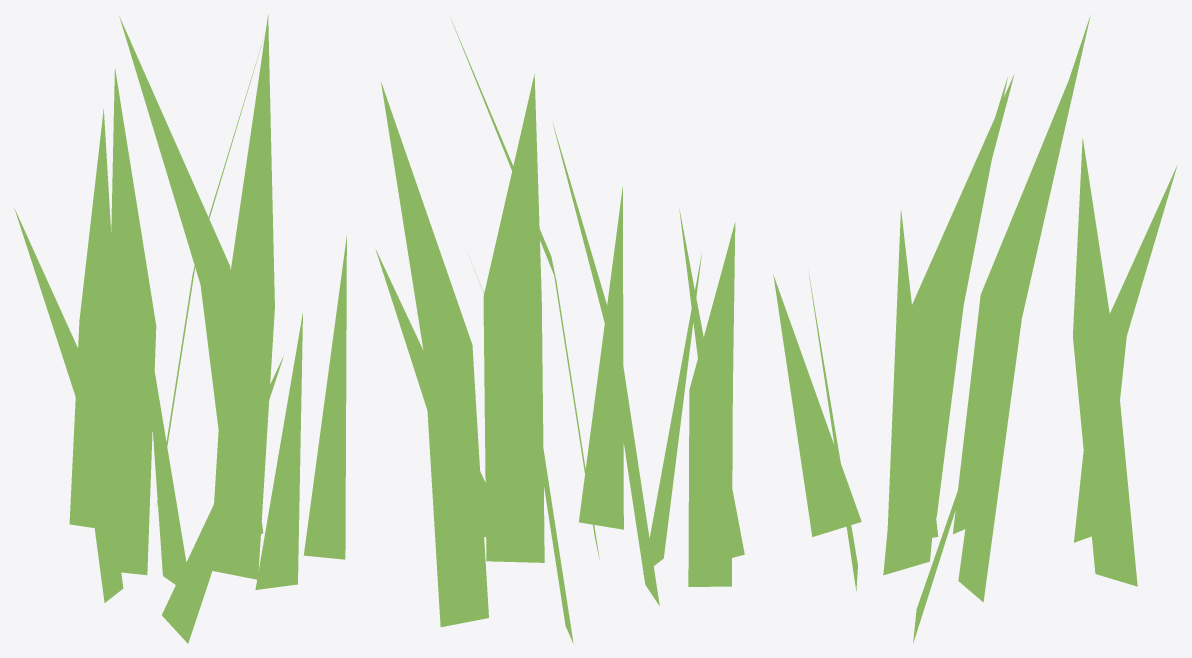
File: Grass_b_TwoS_04.fbx
3 renders of one model, left to right at view 1: azimuth 30°, elevation 25°; view 2: azimuth 150°, elevation 25°; view 3: azimuth 270°, elevation 25°, orthographic. The views are drawn at different scales.
Parts seen in each view (by area): view 1: Grass_b_TwoS_04; view 2: Grass_b_TwoS_04; view 3: Grass_b_TwoS_04.
Boxes of the visible parts, x1,y1,x2,y2 form: Grass_b_TwoS_04: (14, 14, 346, 643); Grass_b_TwoS_04: (375, 17, 744, 643); Grass_b_TwoS_04: (773, 15, 1177, 643).
Bounding box in the file's own units: 0.3188 × 0.4782 × 0.3157.
